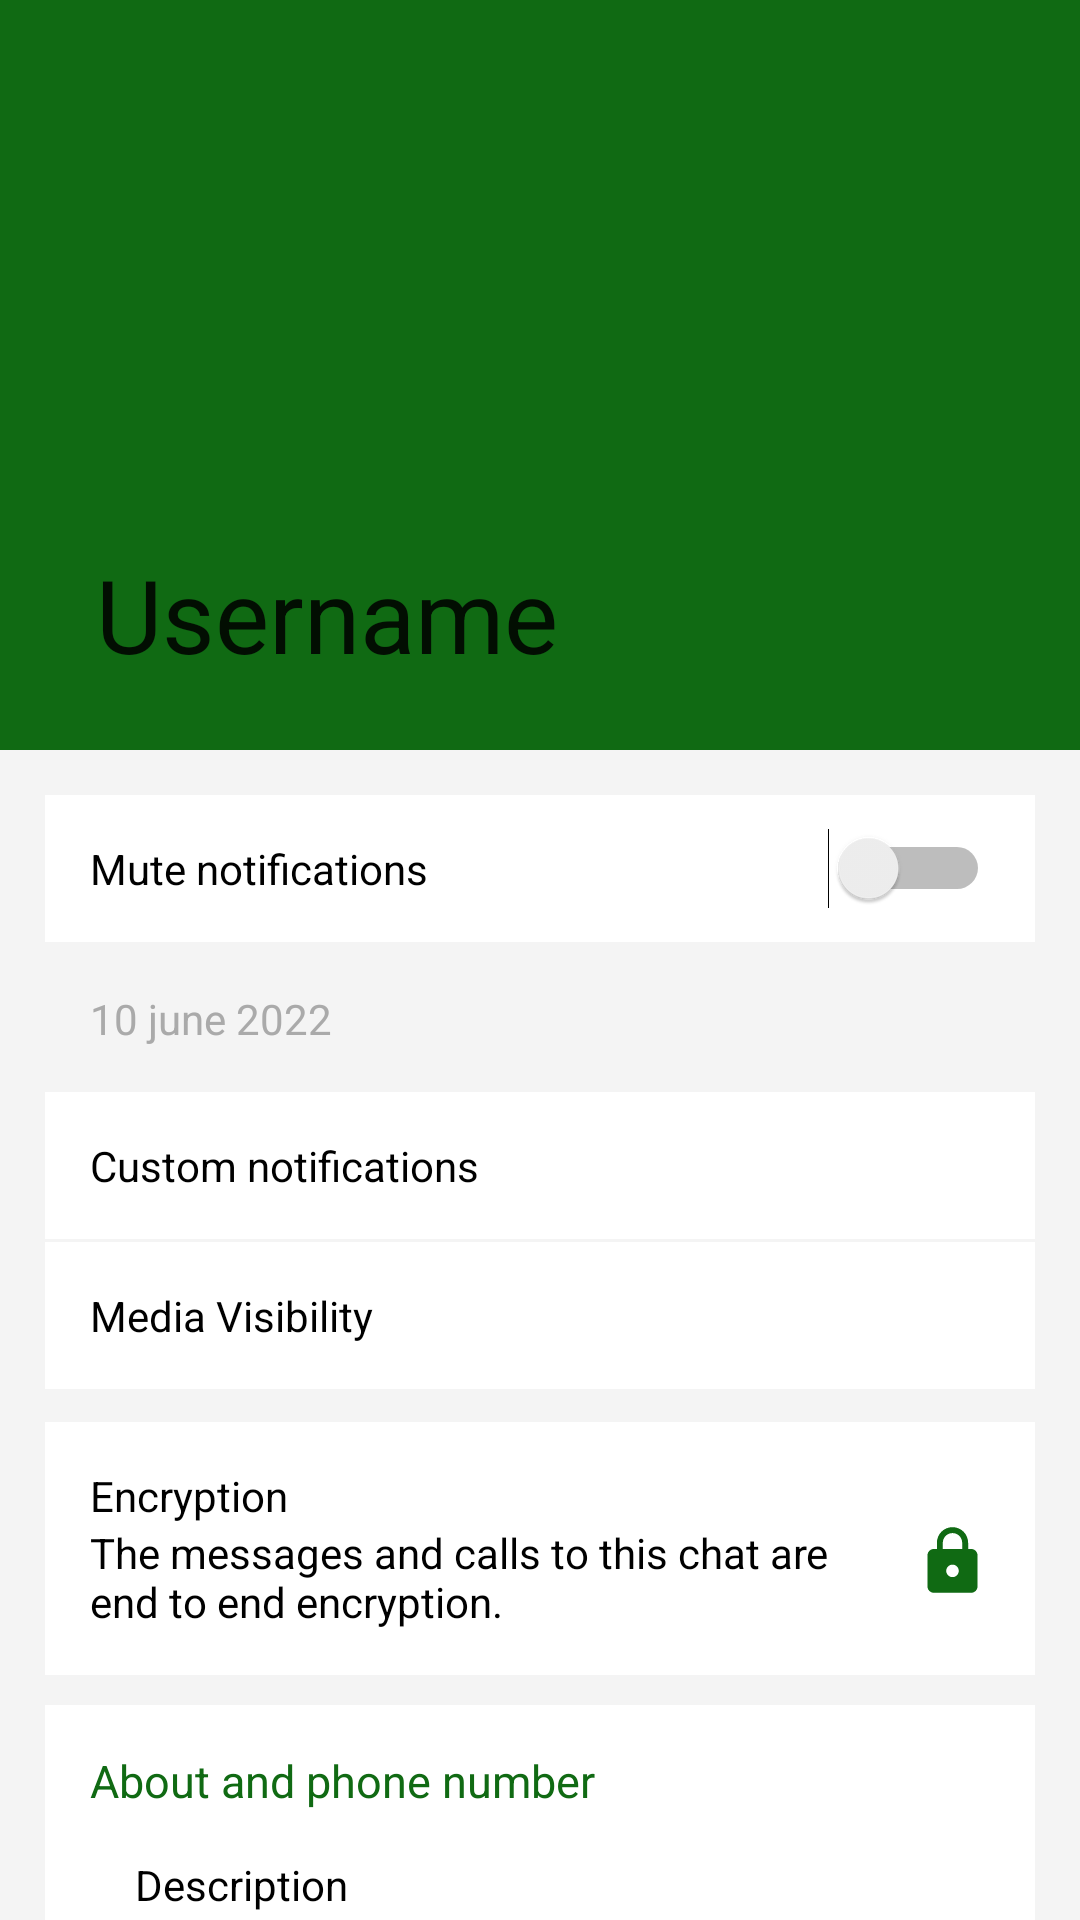

Icon click points for this 1080 x 1920 phone screenshot, format [x,y]:
lock: [952,1560]
